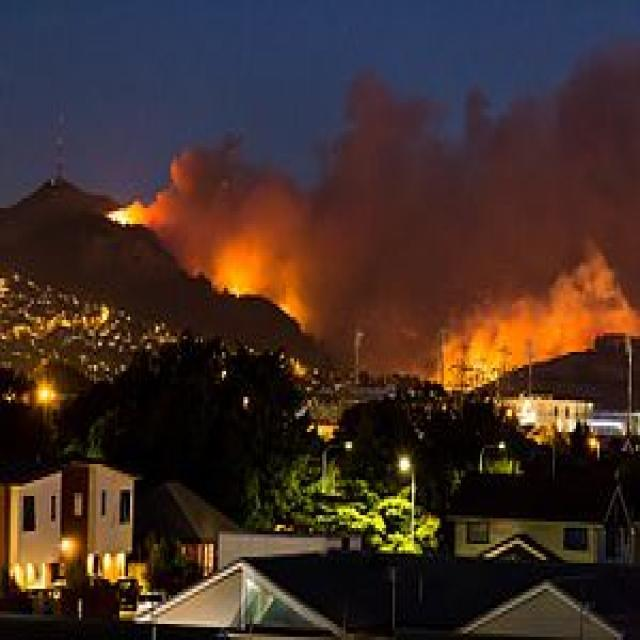Smoke: (102, 28, 640, 408)
